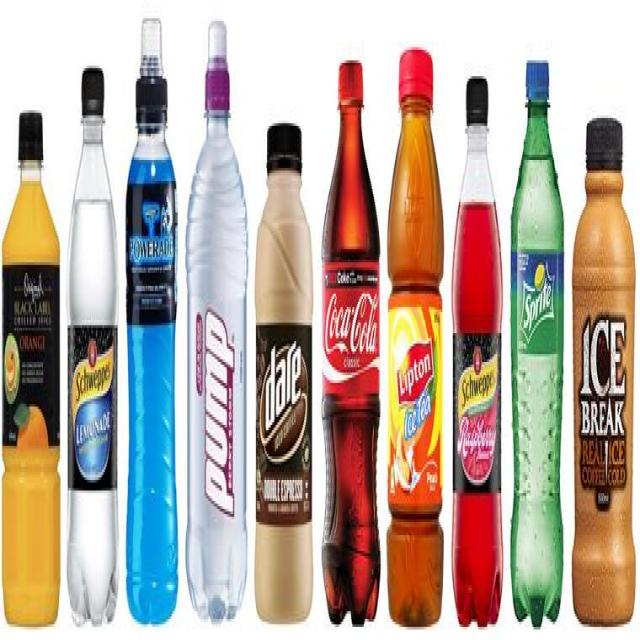plastic_bottle: (188, 16, 249, 616), (573, 106, 638, 638), (62, 70, 125, 618), (126, 16, 180, 630), (324, 59, 382, 615), (1, 114, 64, 617), (512, 55, 566, 629), (390, 64, 445, 617), (257, 114, 316, 625), (455, 78, 502, 611)
